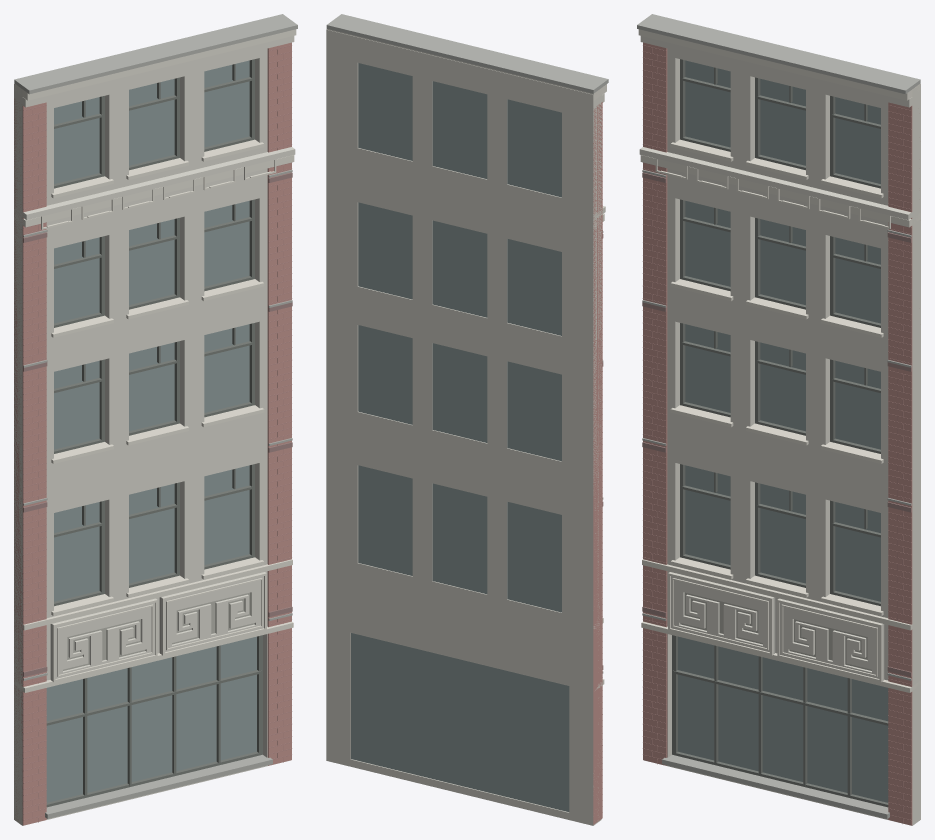
The model's file is huangpu-chekiang-industrial-bank-beijing-front-raw.glb.
3 views of the same model, side by side, from view 1: azimuth 30°, elevation 25°; view 2: azimuth 150°, elevation 25°; view 3: azimuth 330°, elevation 25° (orthographic).
Visible parts, largest first — view 1: 浙江兴业银行（浙兴大楼）北京东路西端窗跨; view 2: 浙江兴业银行（浙兴大楼）北京东路西端窗跨; view 3: 浙江兴业银行（浙兴大楼）北京东路西端窗跨.
Part boxes in pixels (x1,y1,x2,y2): 浙江兴业银行（浙兴大楼）北京东路西端窗跨: [14, 14, 297, 825]; 浙江兴业银行（浙兴大楼）北京东路西端窗跨: [326, 14, 608, 825]; 浙江兴业银行（浙兴大楼）北京东路西端窗跨: [637, 14, 920, 825].
Size of the model in its own units: 6.15 by 16.2 by 0.607.
